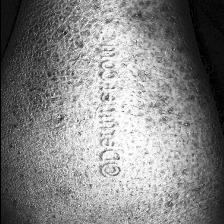Non-Cancerous Skin Condition: (11, 0, 90, 129), (142, 0, 185, 203)
